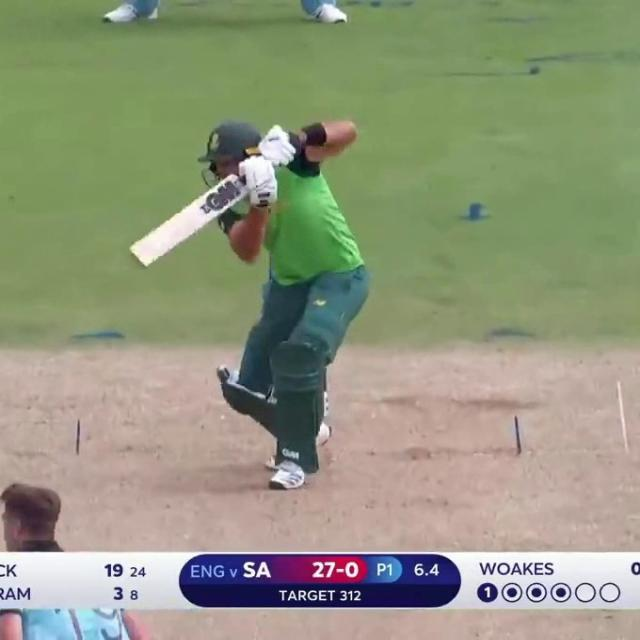bat: (109, 177, 250, 269)
toe: (128, 248, 148, 266)
